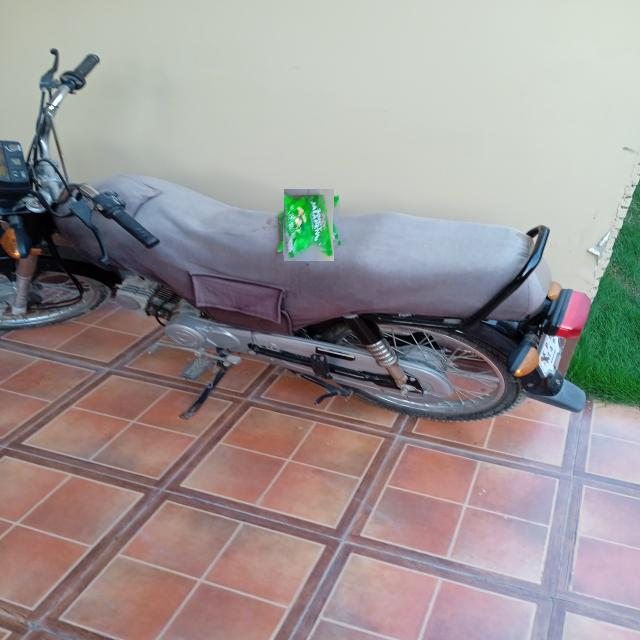Plastic: (278, 195, 339, 256)
